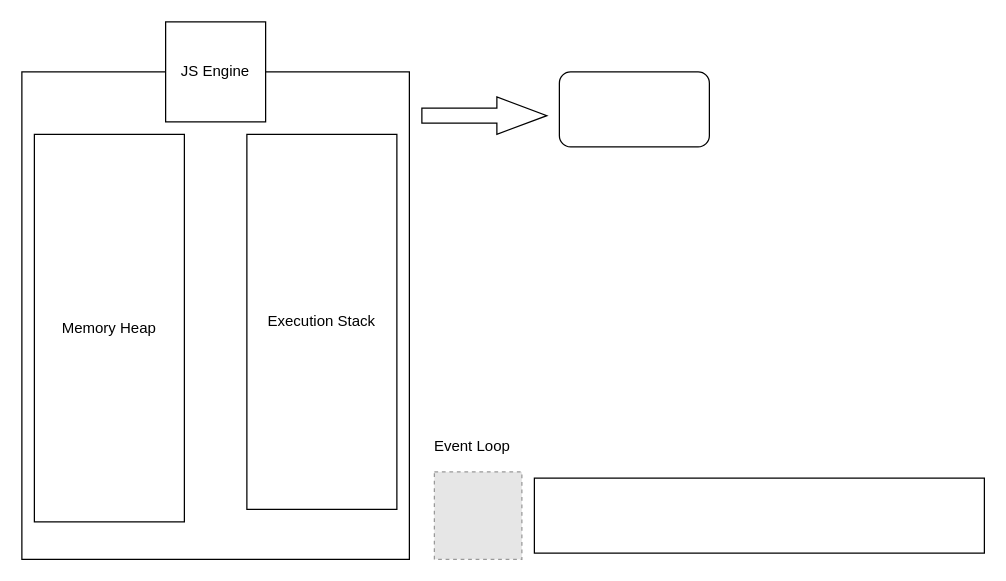
The diagram is 1006 pixels wide and 581 high, and some of its shapes have lost their labels. Grey dashed boxes stand in for pictures. The centre of each missing label's shape, as x and y in pixels:
"callback queue" goes at pixel 758 515.
"Web APIs: setTimeout fetch DOM" goes at pixel 633 109.
